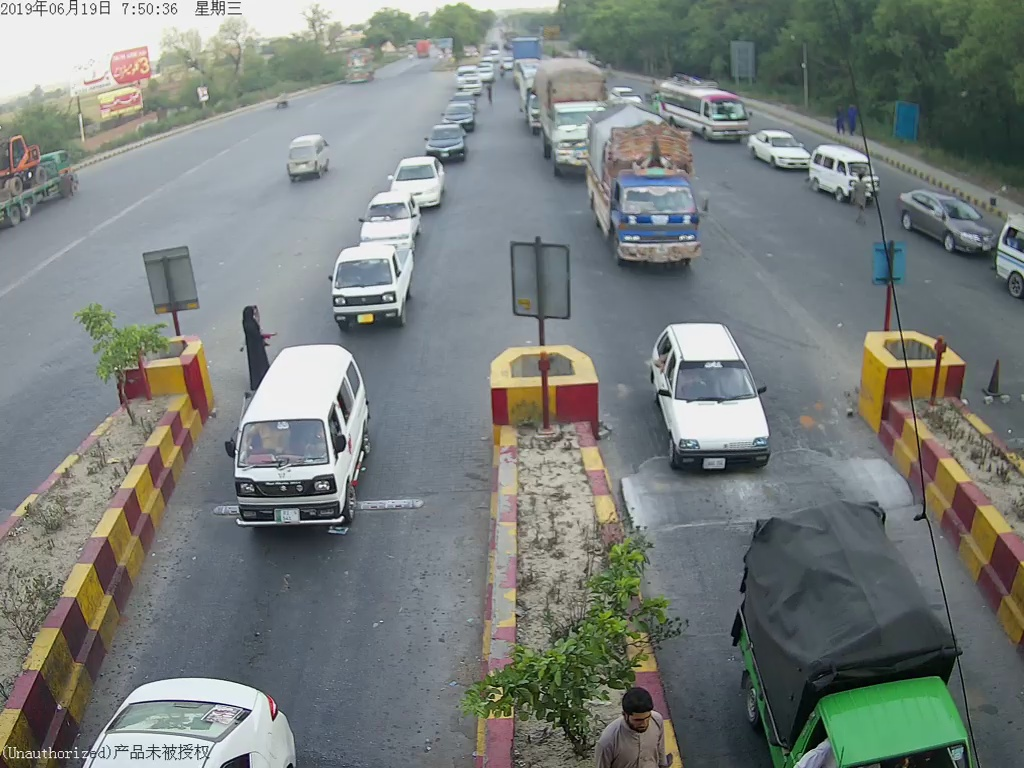Cat-1: (225, 337, 375, 530), (646, 318, 783, 475), (329, 237, 418, 332), (386, 148, 448, 210), (355, 188, 419, 246), (424, 123, 471, 163)
Cat-2: (591, 99, 708, 270)
Cat-4: (530, 52, 607, 175)
